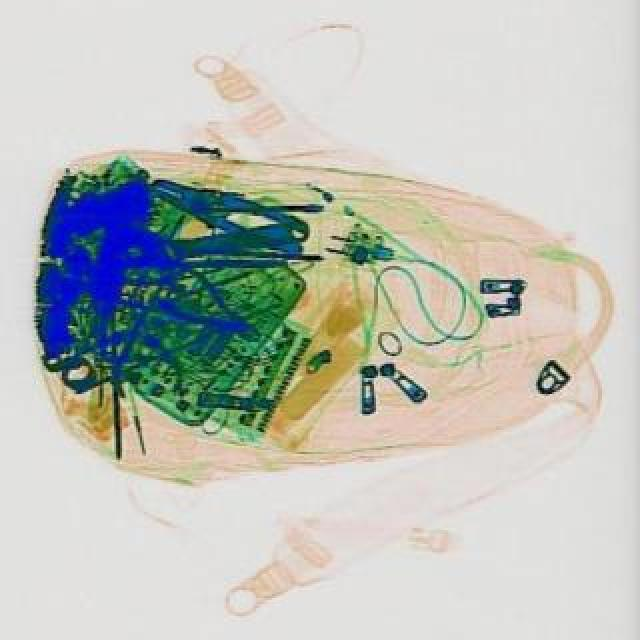scissors: (114, 204, 318, 284)
wrench: (144, 162, 316, 258), (156, 258, 280, 358)
